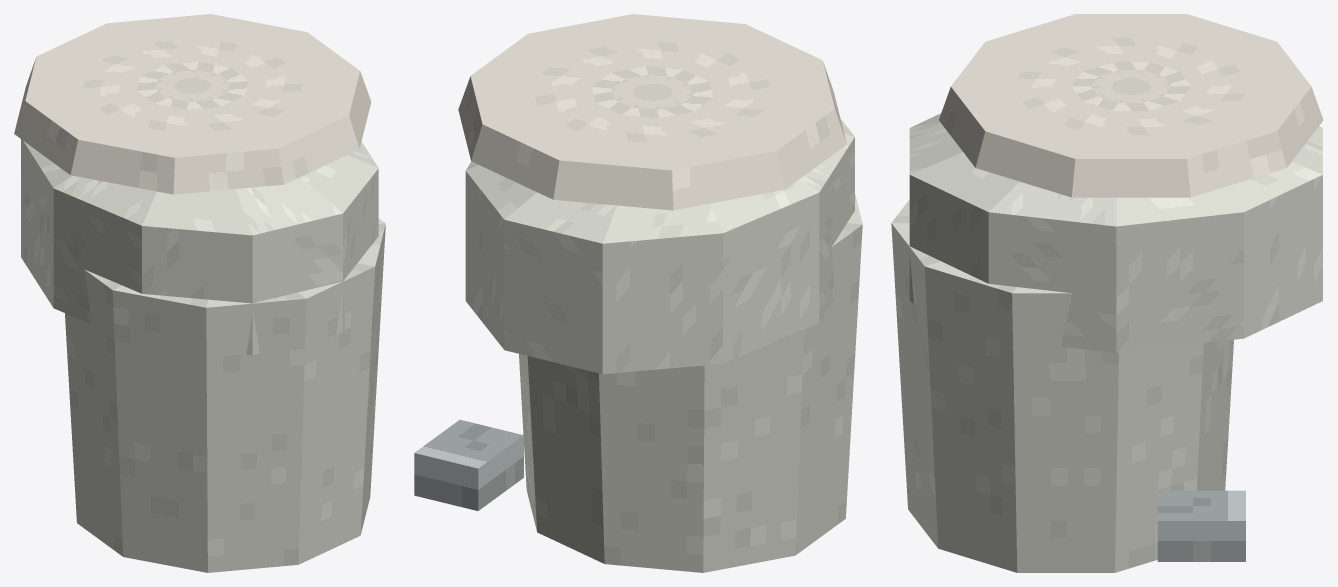
Rendered from f_bullettrailer_toilet.glb.
3 renders of one model, left to right at view 1: azimuth 30°, elevation 25°; view 2: azimuth 150°, elevation 25°; view 3: azimuth 270°, elevation 25°, orthographic. The views are drawn at different scales.
Parts seen in each view (by area): view 1: block_plastic-discharge-base, block_closed-seat-lid, block_compact-toilet-bowl; view 2: block_plastic-discharge-base, block_compact-toilet-bowl, block_closed-seat-lid, block_foot-flush-pedal; view 3: block_plastic-discharge-base, block_compact-toilet-bowl, block_closed-seat-lid, block_foot-flush-pedal.
Boxes of the visible parts, left/top/right/bottom form: block_plastic-discharge-base: left=65, top=218, right=385, bottom=572; block_closed-seat-lid: left=14, top=14, right=371, bottom=194; block_compact-toilet-bowl: left=21, top=139, right=378, bottom=355; block_plastic-discharge-base: left=519, top=194, right=862, bottom=572; block_compact-toilet-bowl: left=465, top=119, right=854, bottom=374; block_closed-seat-lid: left=458, top=14, right=846, bottom=210; block_foot-flush-pedal: left=414, top=419, right=523, bottom=510; block_plastic-discharge-base: left=891, top=199, right=1233, bottom=572; block_compact-toilet-bowl: left=909, top=113, right=1322, bottom=352; block_closed-seat-lid: left=939, top=14, right=1323, bottom=197; block_foot-flush-pedal: left=1157, top=490, right=1245, bottom=561.
Bounding box in the file's own units: 0.4124 × 0.502 × 0.465.
Materials: 1 (1 with a texture image).
